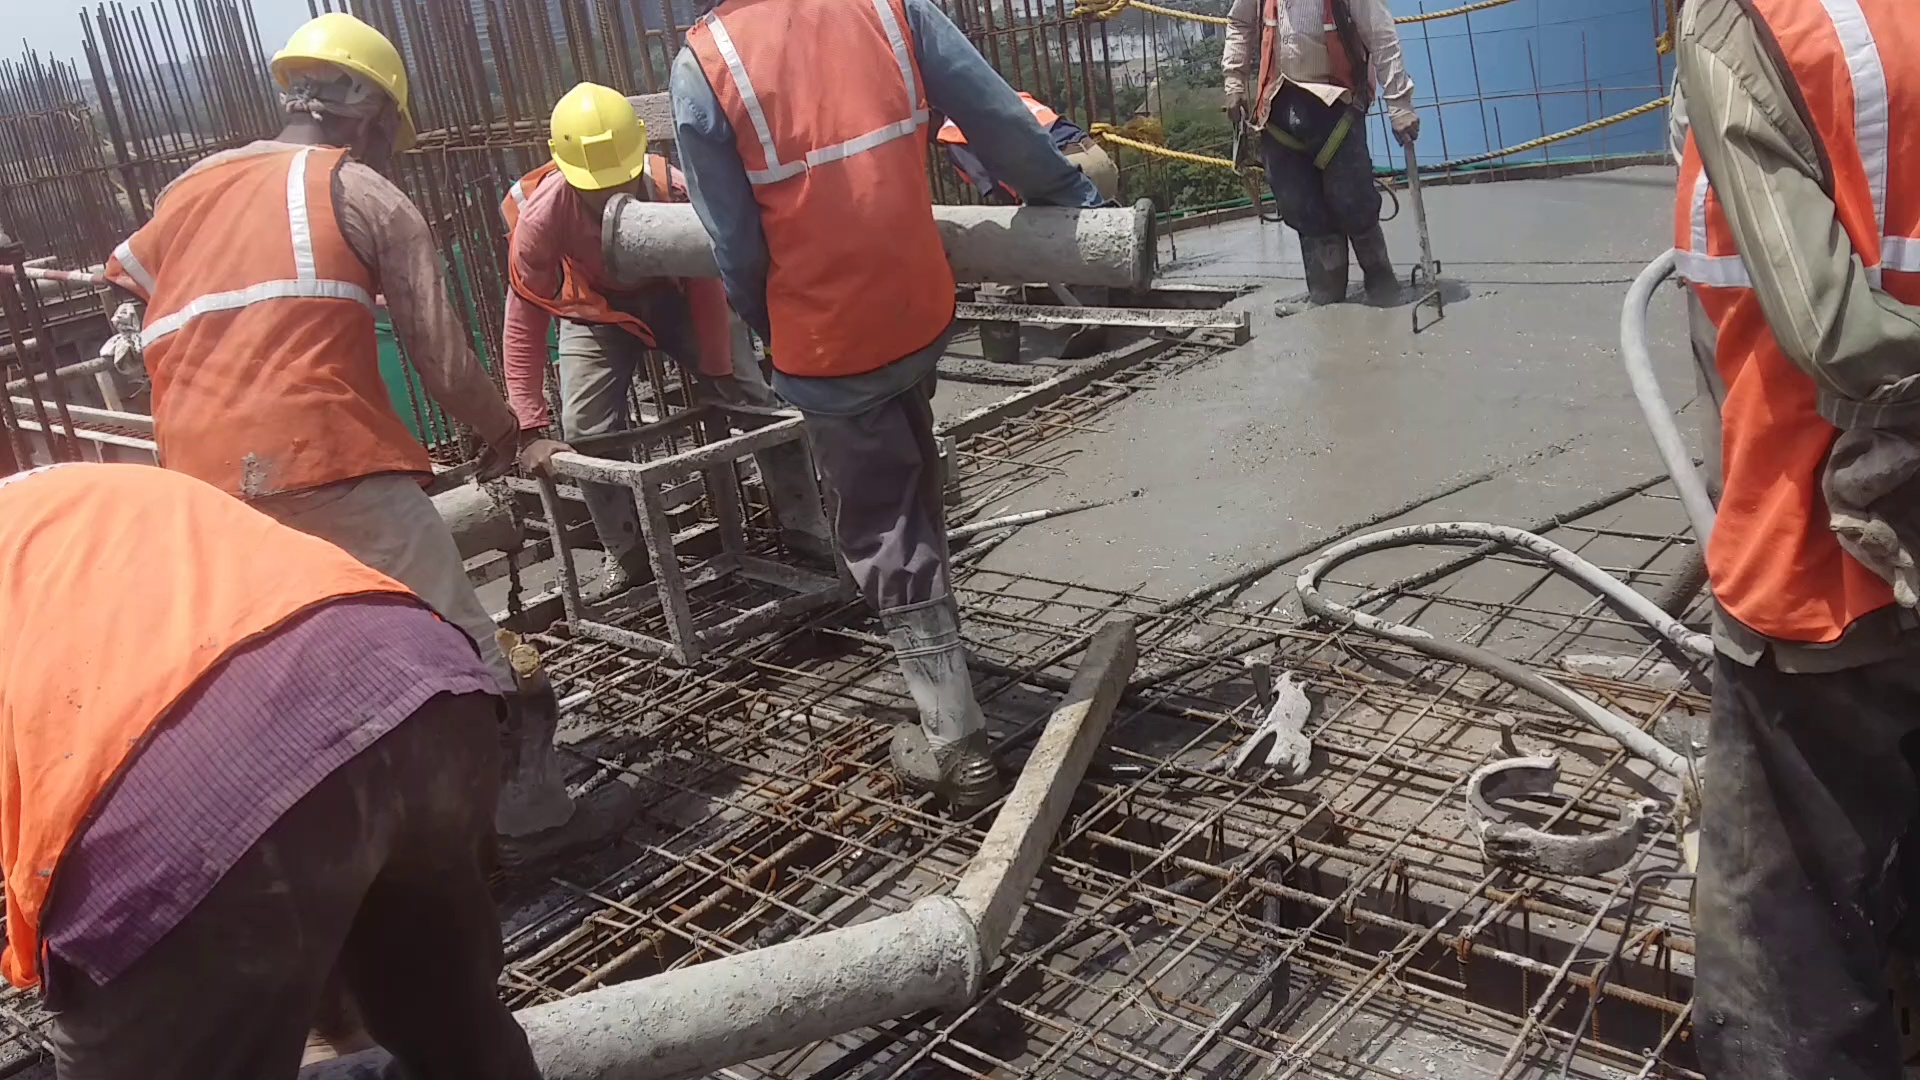SAFE: (142, 12, 388, 463), (502, 79, 605, 356)
